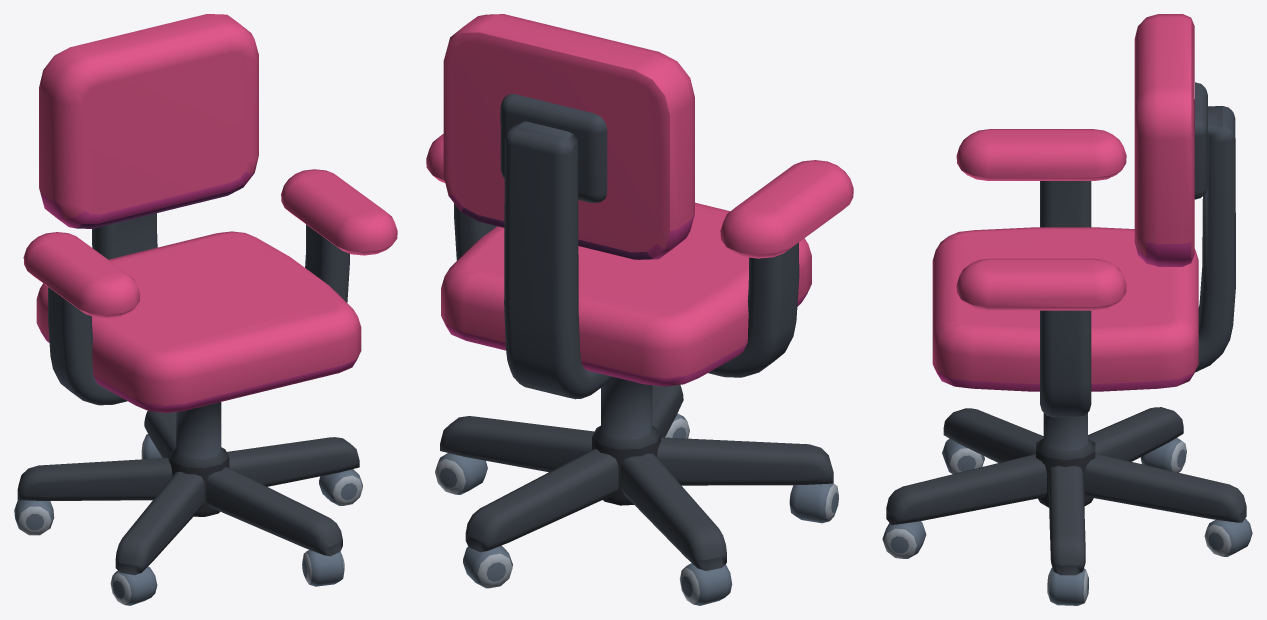
Rendered from cadeira_escritorio_rosa_pacote.glb.
3 views of the same model, side by side, from view 1: azimuth 30°, elevation 25°; view 2: azimuth 150°, elevation 25°; view 3: azimuth 270°, elevation 25° (orthographic). The views are drawn at different scales.
Parts seen in each view (by area): view 1: cadeira_escritorio_rosa_pacote; view 2: cadeira_escritorio_rosa_pacote; view 3: cadeira_escritorio_rosa_pacote.
Part boxes in pixels (box(x1,y1,x2,y2)): cadeira_escritorio_rosa_pacote: box(14, 14, 397, 605); cadeira_escritorio_rosa_pacote: box(426, 14, 853, 605); cadeira_escritorio_rosa_pacote: box(882, 14, 1252, 605).
Bounding box in the file's own units: 0.7498 × 1.05 × 0.7323.
Materials: 1 (1 with a texture image).
